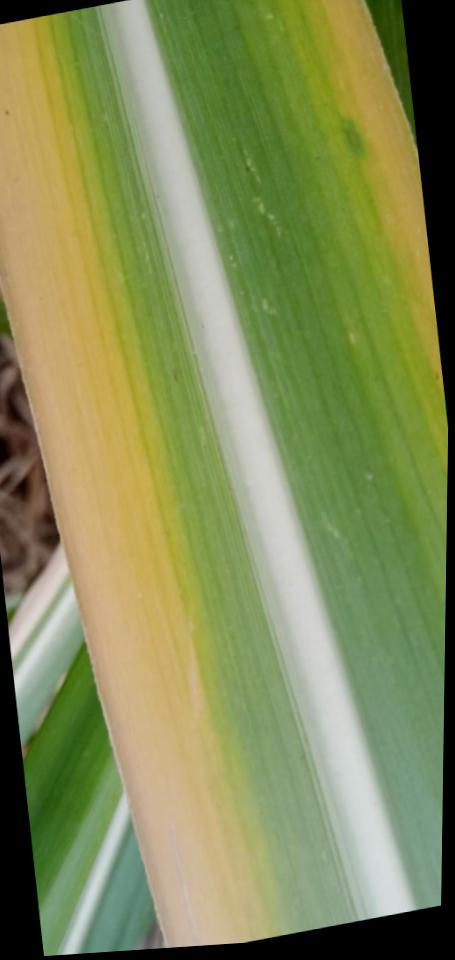Yellow: (0, 15, 280, 948), (262, 0, 448, 551)
